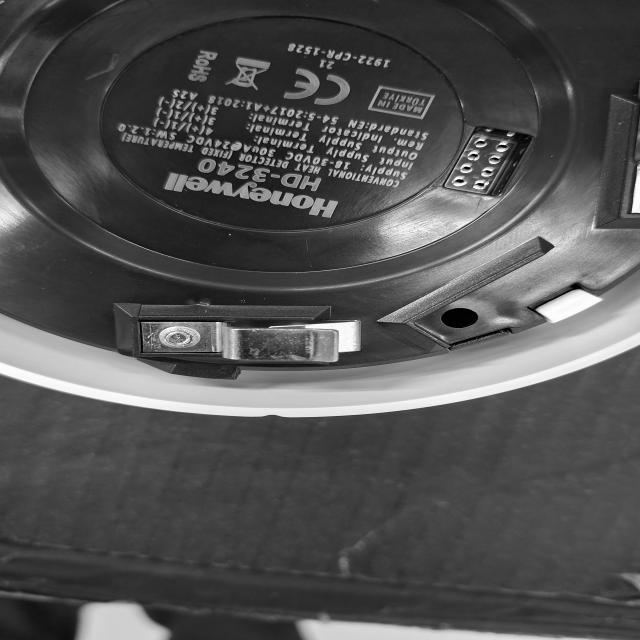yayli: (114, 307, 378, 373)
